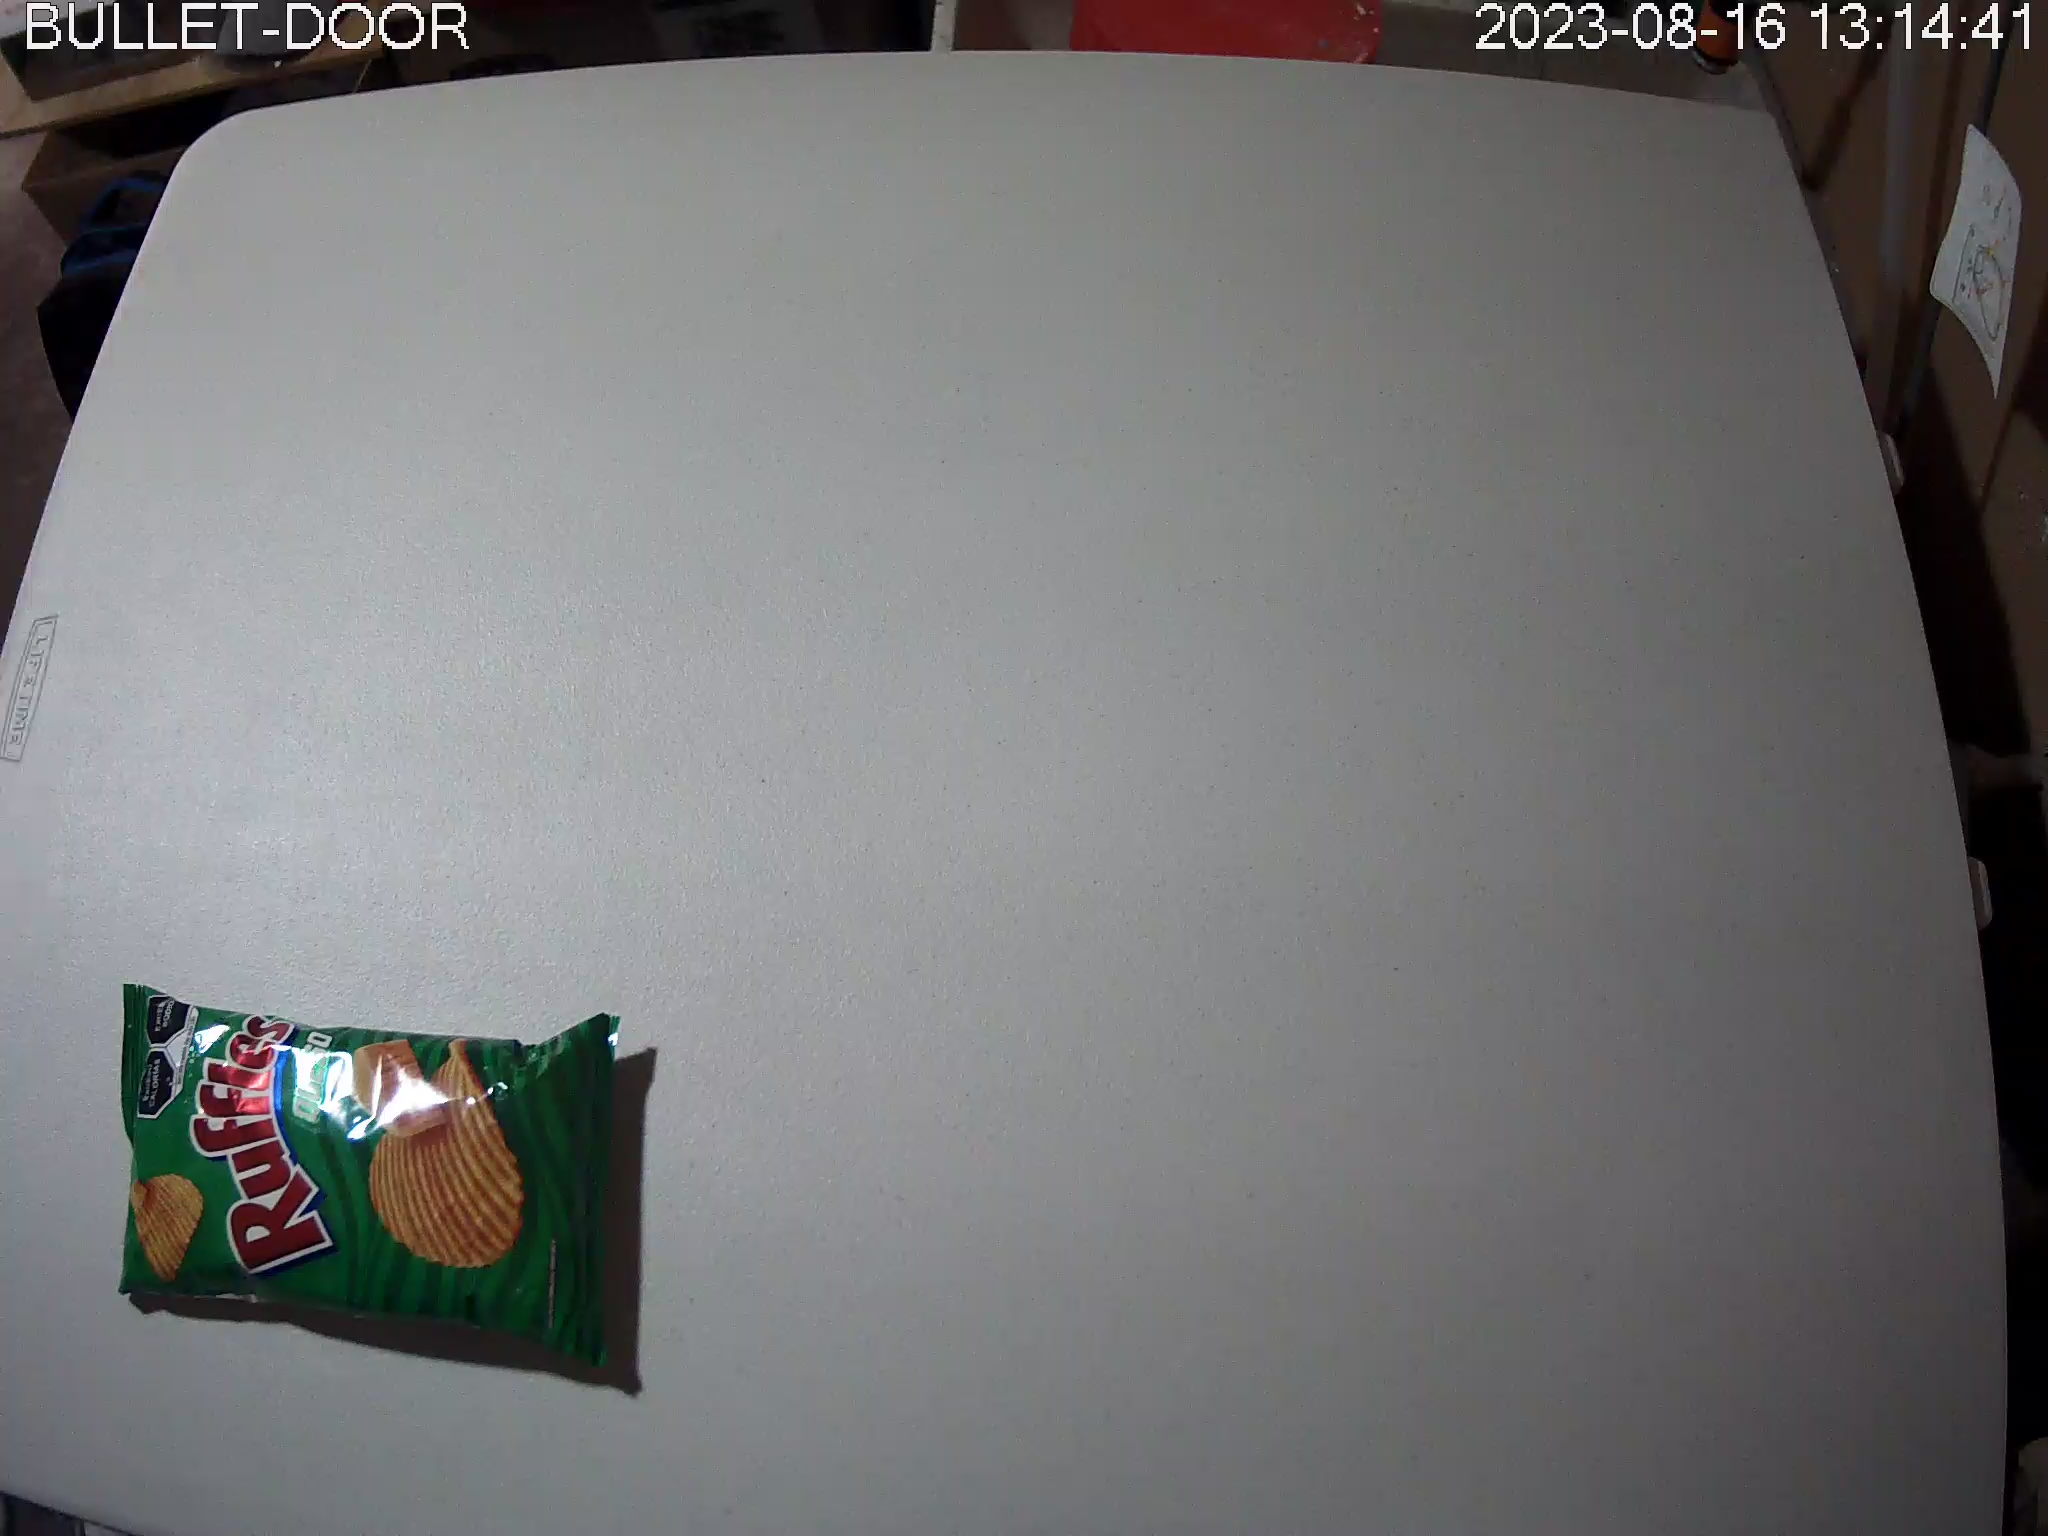RufflesQ_48_F: (116, 979, 622, 1371)
